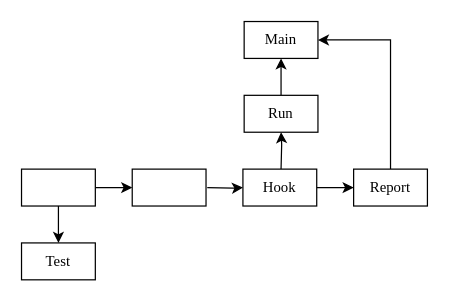
Image size: 449x301. Some labels were removed from this diagram. Here are the shapes that lost their labels. From the top down, the centre of each, then its label:
the point at 57,187: Type
the point at 168,187: Inspect
